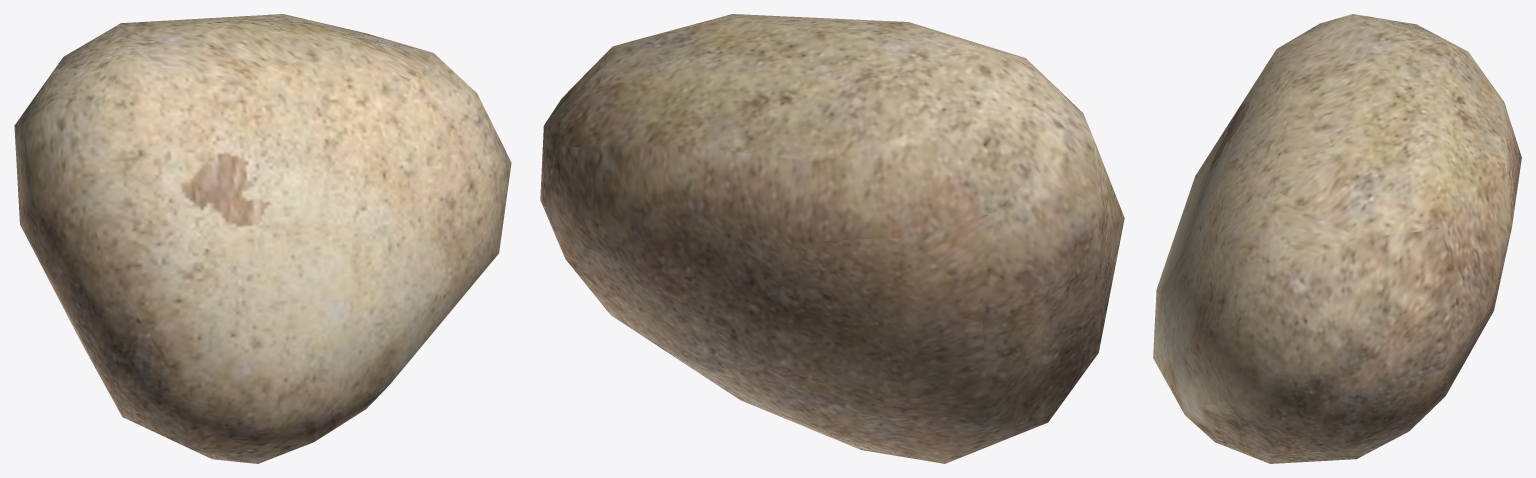
3 renders of one model, left to right at view 1: azimuth 30°, elevation 25°; view 2: azimuth 150°, elevation 25°; view 3: azimuth 270°, elevation 25°, orthographic. The views are drawn at different scales.
Parts seen in each view (by area): view 1: rock034_lod4; view 2: rock034_lod4; view 3: rock034_lod4.
Part boxes in pixels (x1=…): rock034_lod4: x1=14, y1=14, x2=511, y2=463; rock034_lod4: x1=540, y1=14, x2=1124, y2=463; rock034_lod4: x1=1153, y1=14, x2=1521, y2=463.
Bounding box in the file's own units: 1 × 0.7817 × 0.6907.
1 material, 1 textured.
